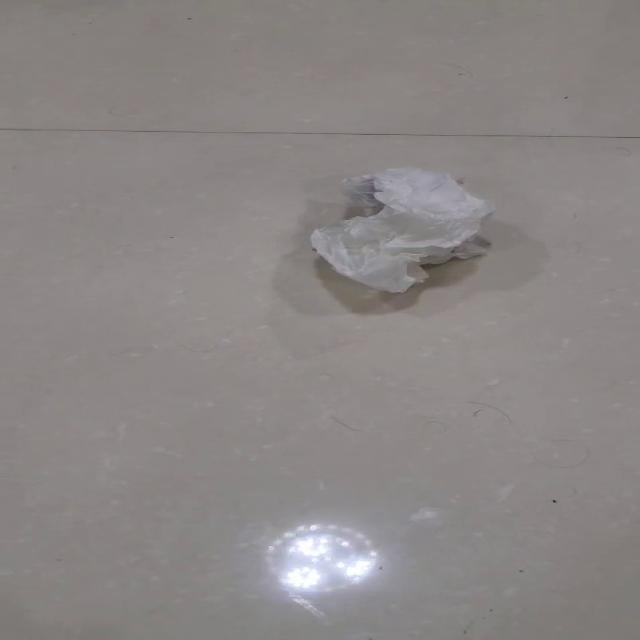plastic: (308, 165, 494, 294)
